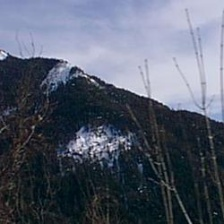neutral: (1, 12, 222, 221)
